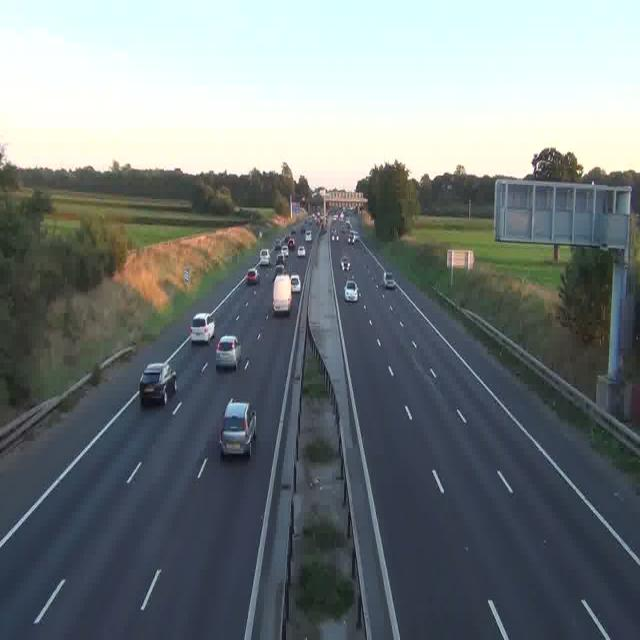car: (220, 400, 256, 457), (139, 362, 177, 405), (216, 334, 242, 369), (190, 312, 216, 343), (344, 280, 359, 301), (382, 272, 396, 290), (245, 266, 258, 284), (288, 274, 300, 293), (258, 250, 270, 266), (342, 253, 352, 270), (276, 252, 286, 266), (298, 244, 306, 256), (304, 232, 312, 244), (352, 233, 359, 244), (347, 234, 354, 244)
truck: (272, 274, 292, 314)
